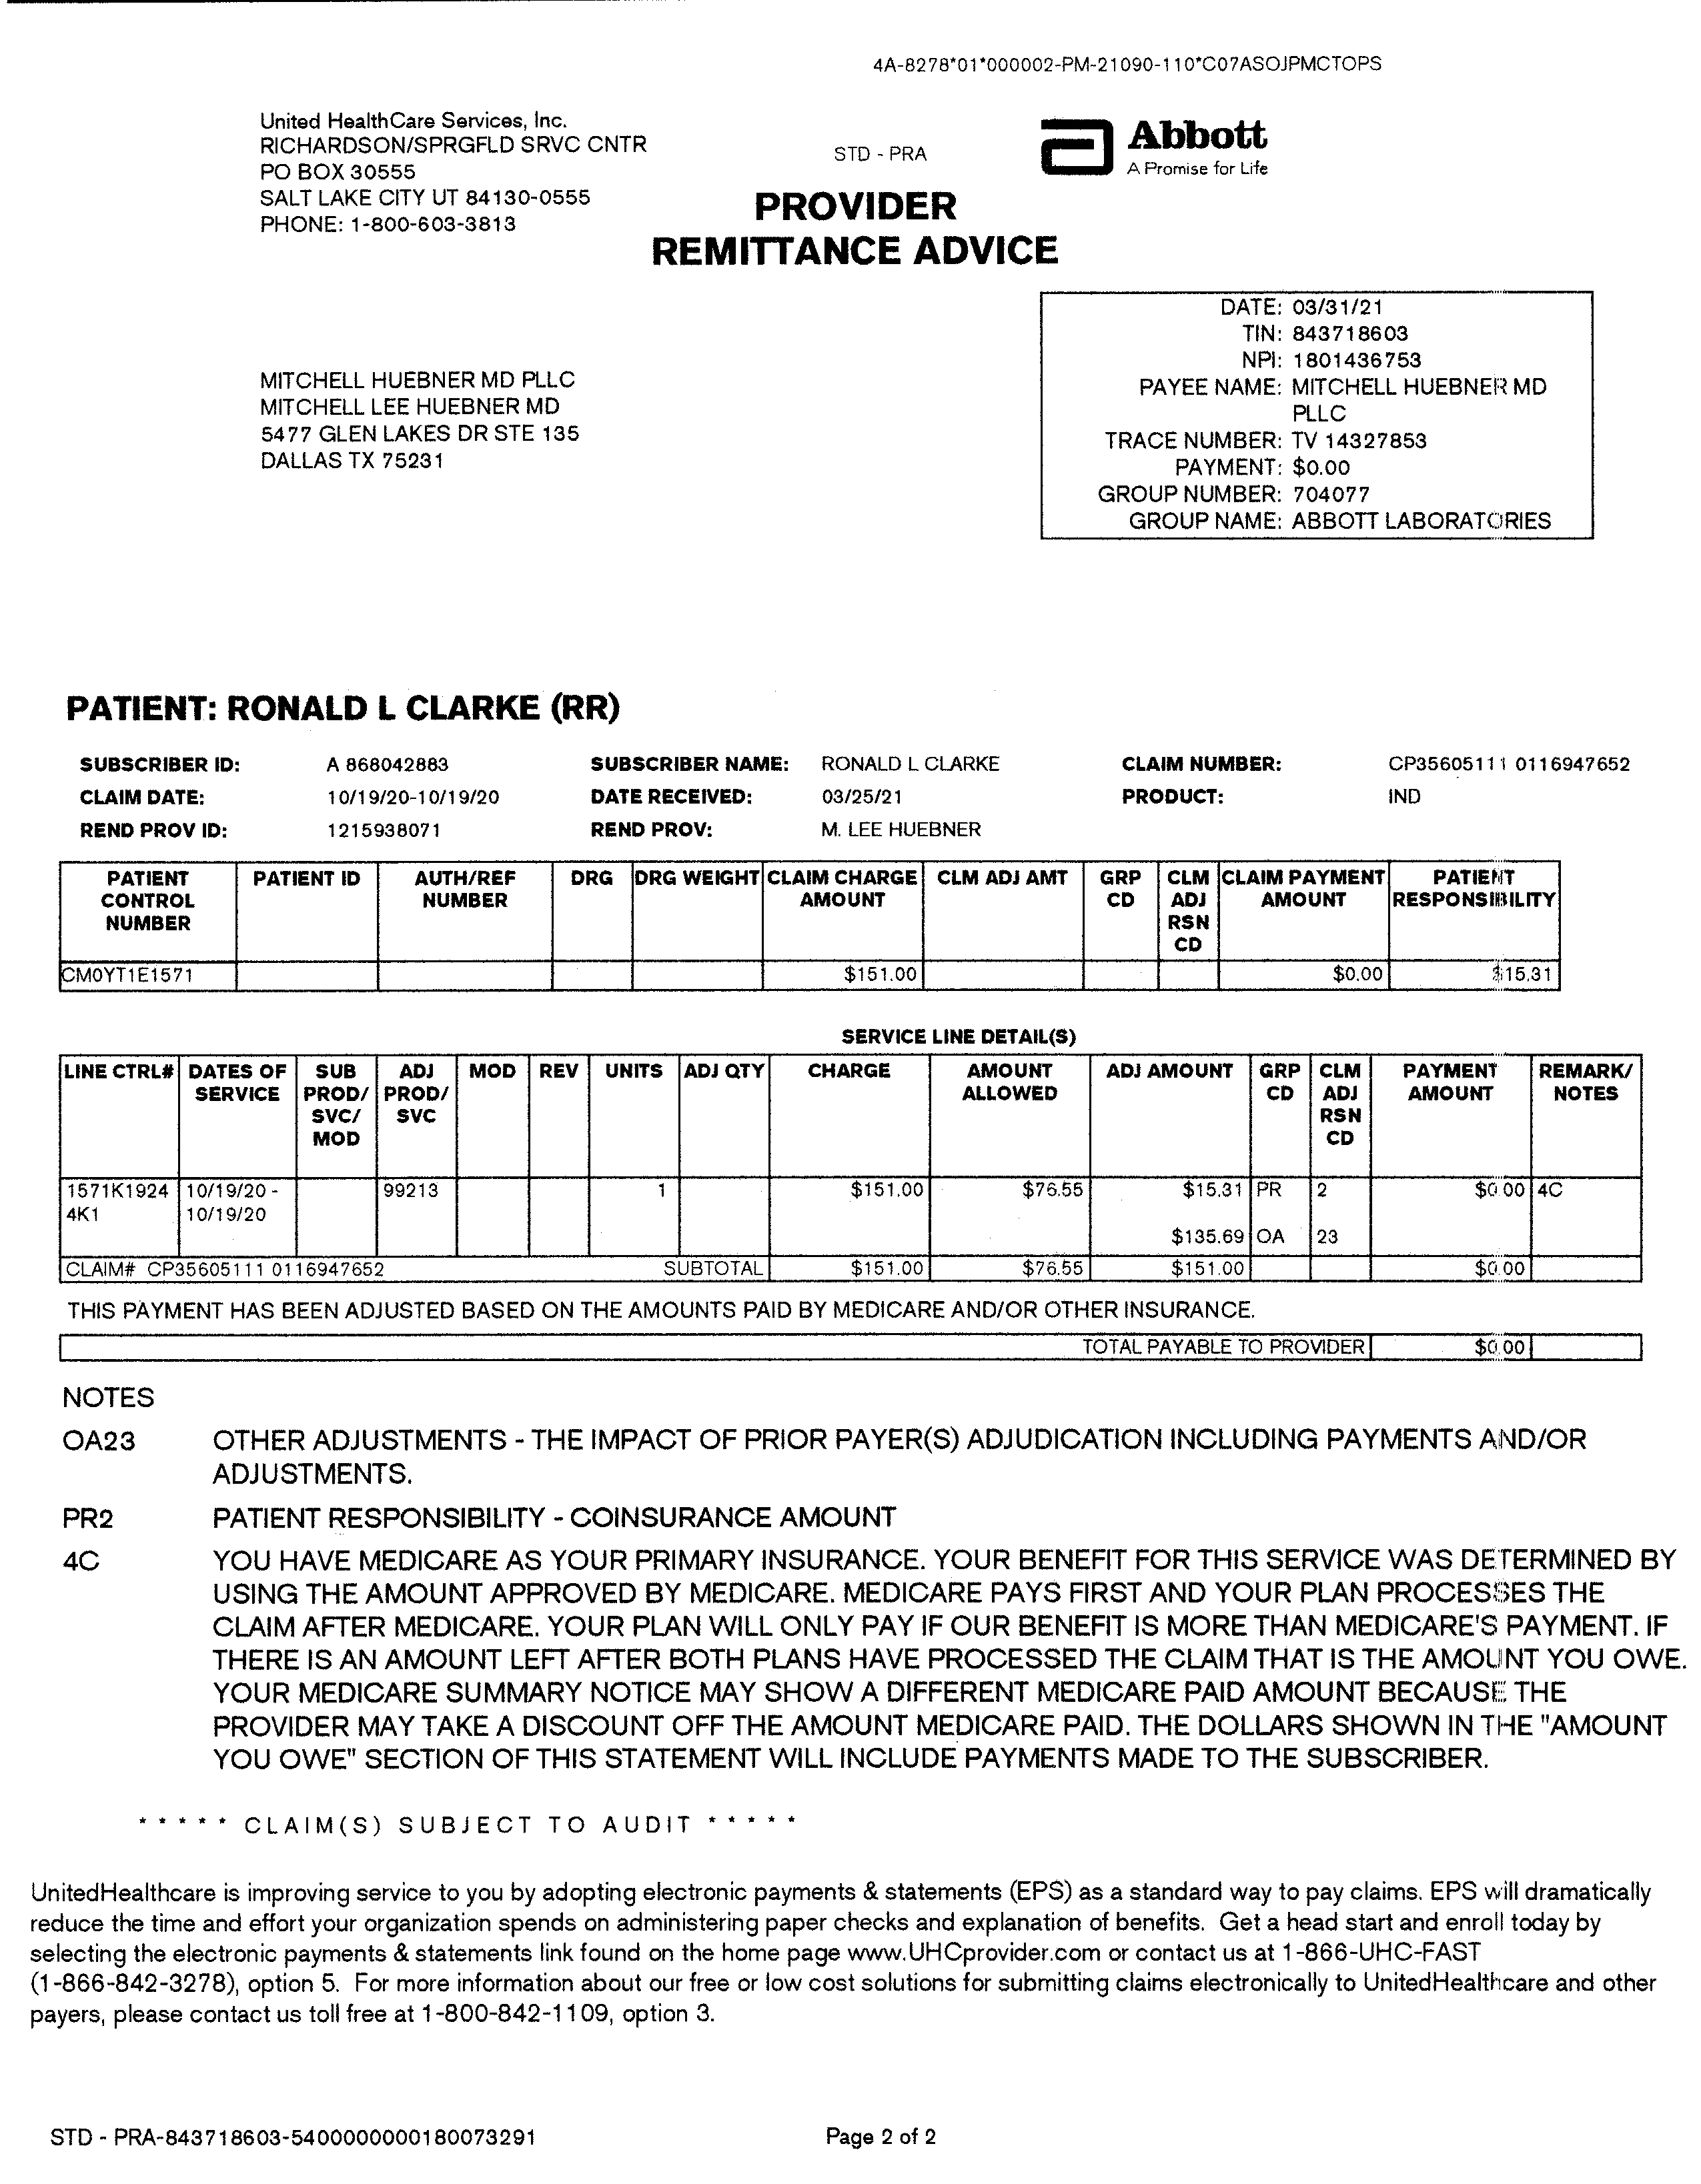data: (1023, 280, 1621, 569), (247, 344, 639, 503), (1101, 736, 1635, 833), (568, 736, 1016, 846), (67, 737, 521, 840)
table: (44, 1035, 1655, 1292), (46, 849, 1575, 1000)
